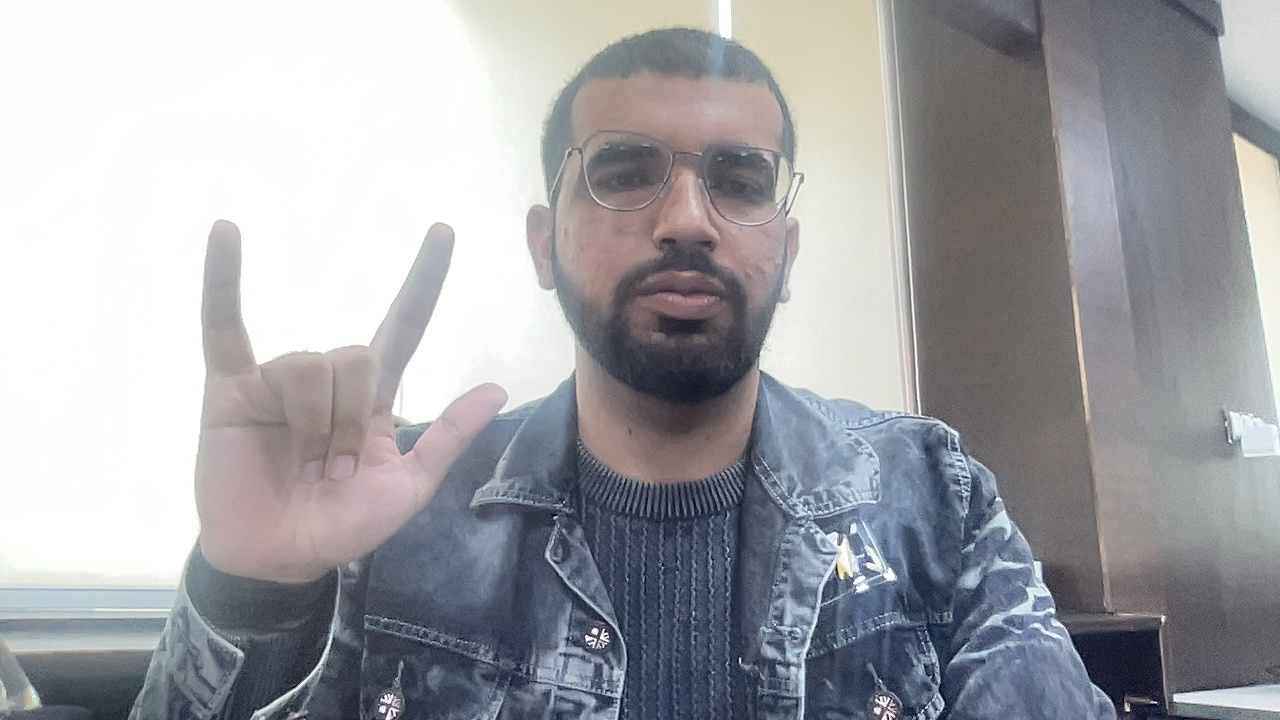I Love You: (126, 190, 534, 630)
